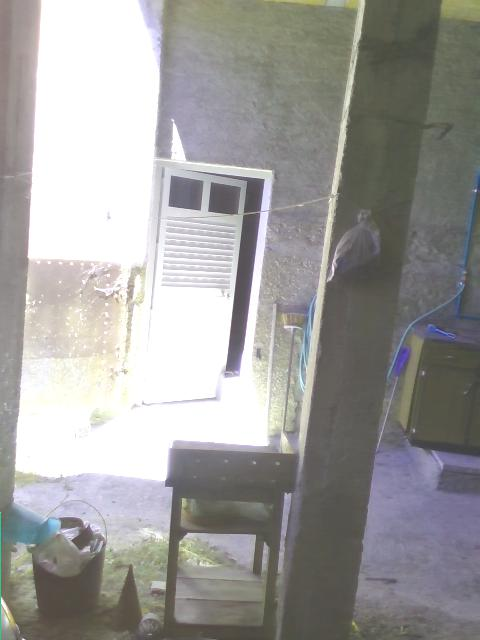semi_door: (134, 155, 274, 411)
